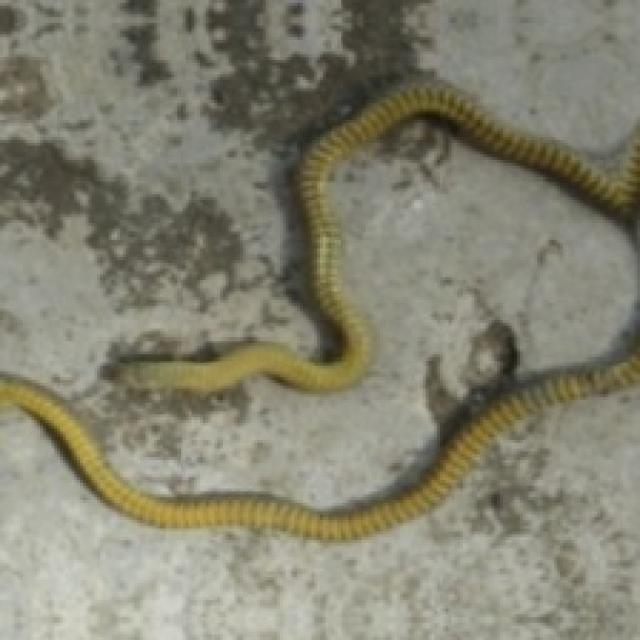gervais worm snake: (111, 83, 637, 391), (0, 323, 637, 540)
